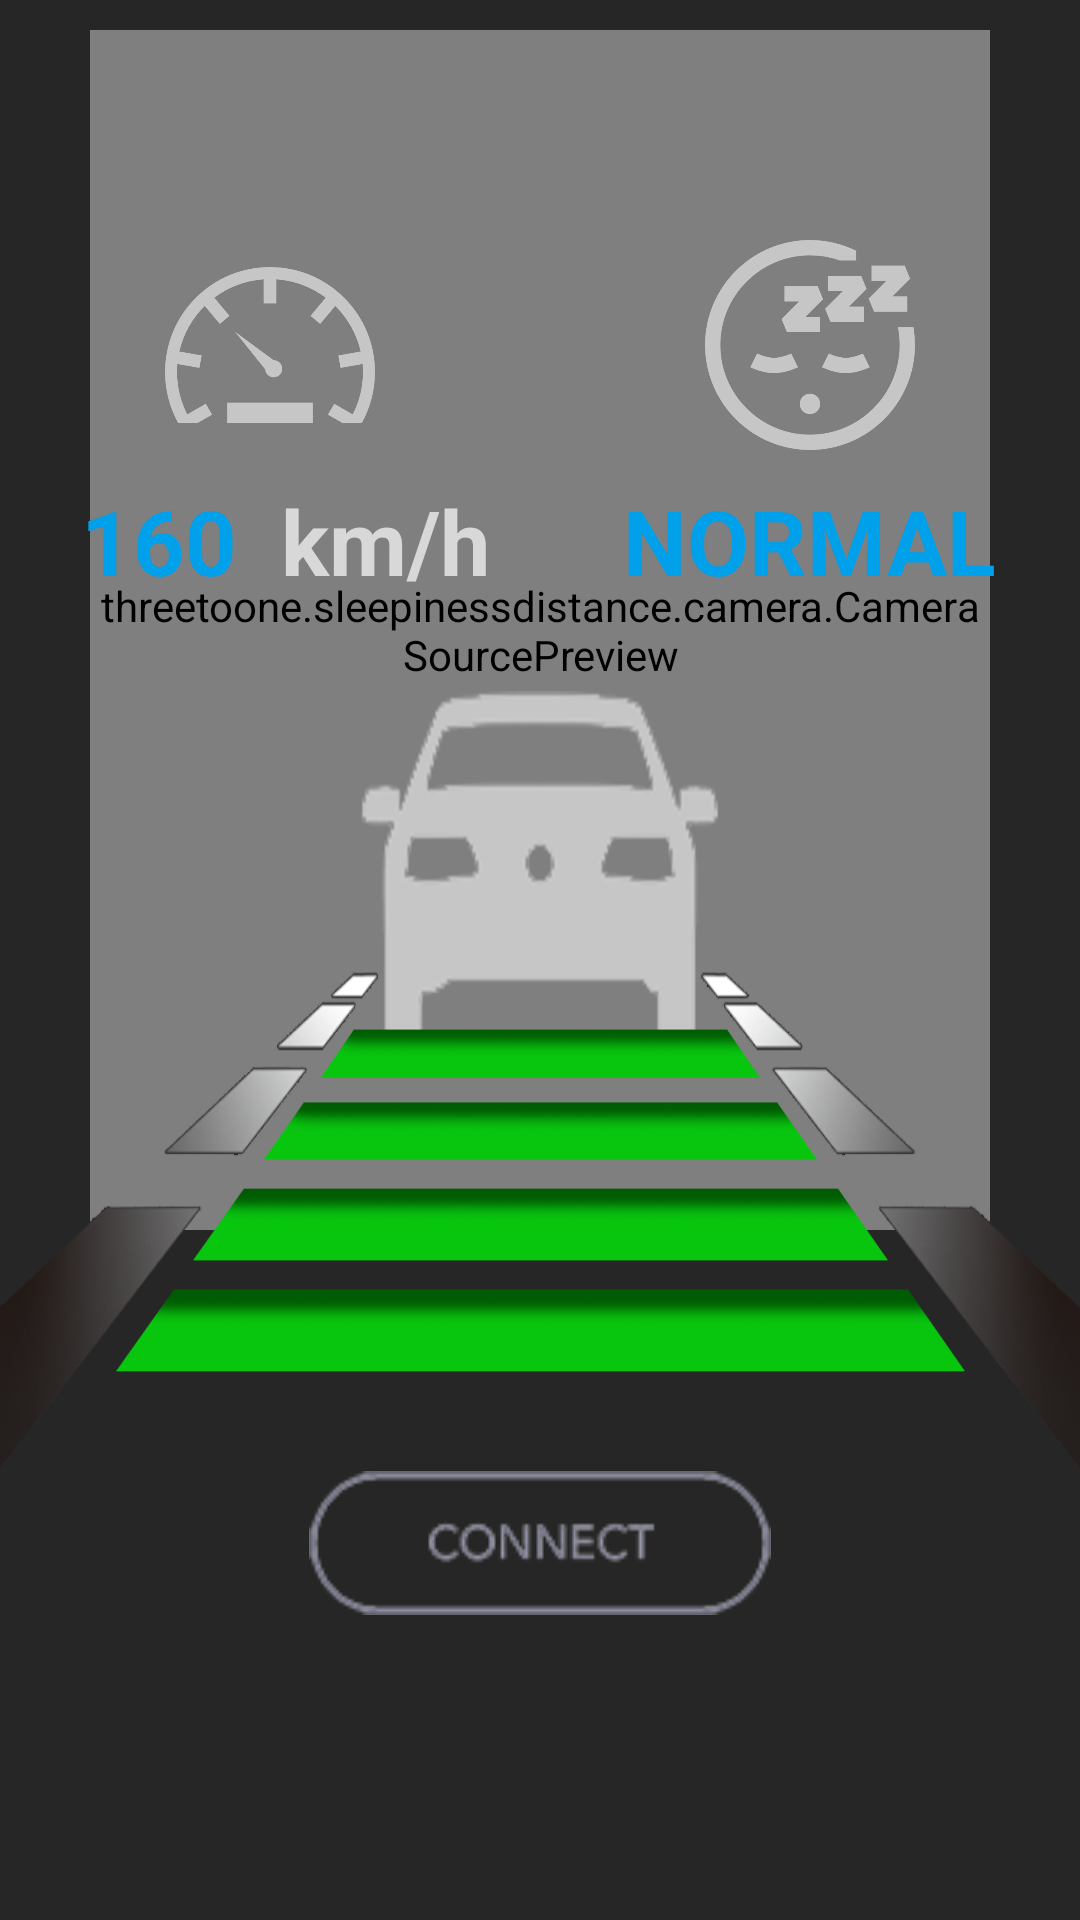

Point at icon controls on the screen. Image size 1080x1920, points as (x=x, y=y).
car: (x=540, y=872)
unitspeed: (x=270, y=345)
